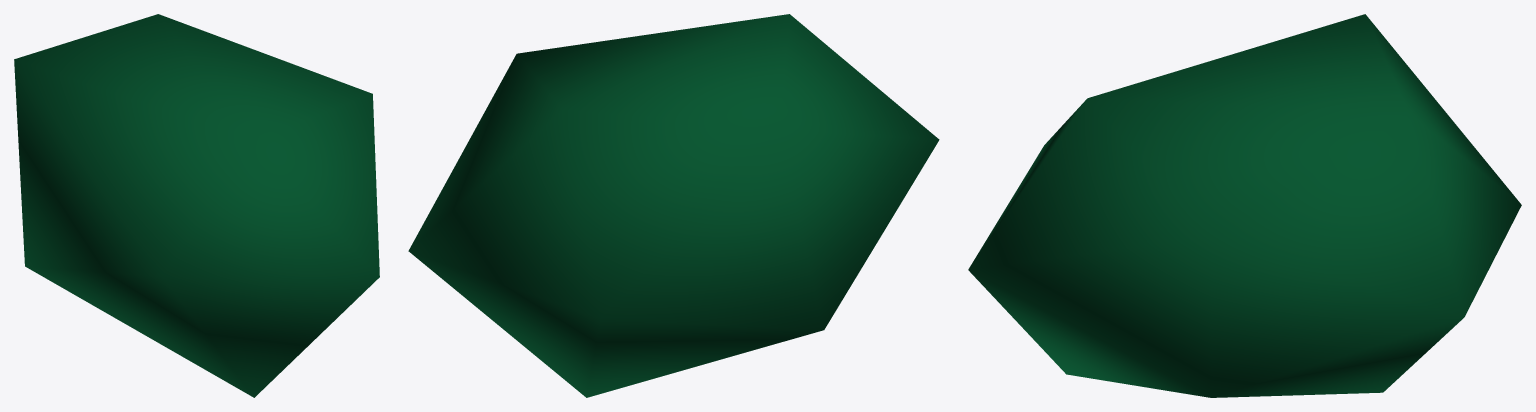
File: Bush4.fbx
3 renders of one model, left to right at view 1: azimuth 30°, elevation 25°; view 2: azimuth 150°, elevation 25°; view 3: azimuth 270°, elevation 25°, orthographic. The views are drawn at different scales.
Visible parts, largest first — view 1: Bush4; view 2: Bush4; view 3: Bush4.
Part boxes in pixels (box(x1,y1,x2,y2)): Bush4: box(14, 14, 379, 397); Bush4: box(408, 14, 939, 397); Bush4: box(968, 14, 1521, 397).
Bounding box in the file's own units: 37.09 × 31.11 × 51.8.
